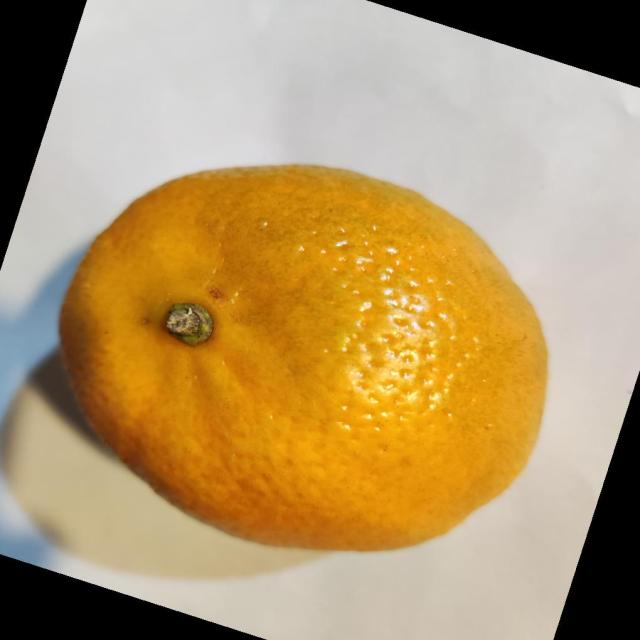fresh orange: (57, 161, 550, 552)
